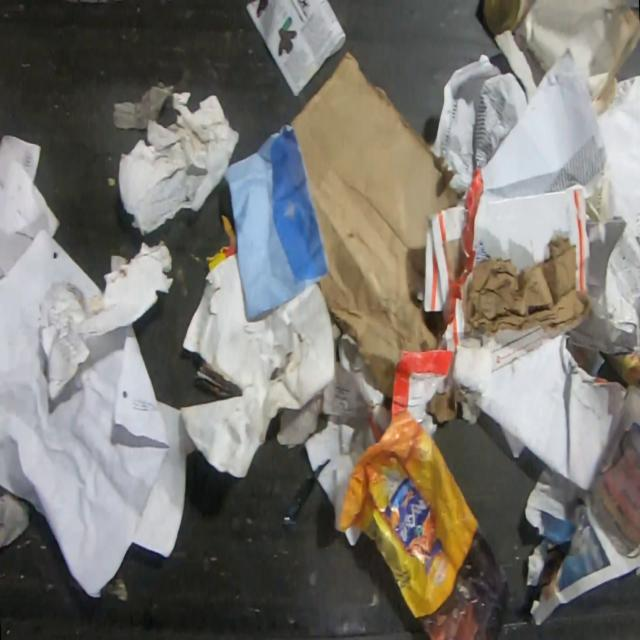cardboard: (288, 49, 459, 401), (480, 0, 640, 118), (462, 236, 594, 338), (388, 348, 455, 436), (427, 390, 459, 426)
soft_plastic: (332, 411, 511, 639)
